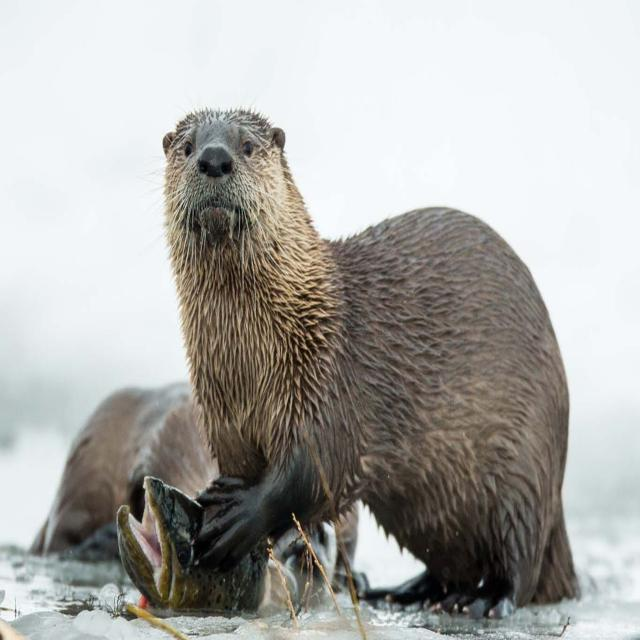Otter: (153, 96, 576, 596)
